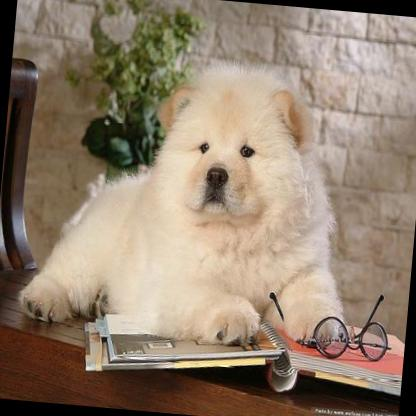chow: (14, 39, 365, 354)
